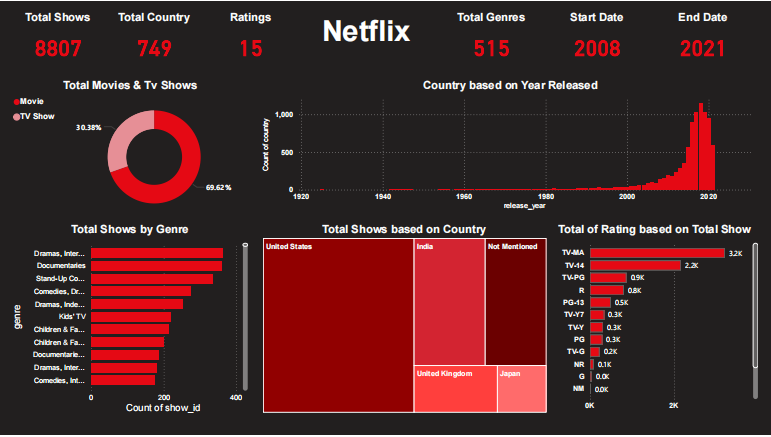

What the dashboard file says about the page in this screenshot:
{"tool":"powerbi","page":{"name":"Page 1","canvas":[1280,720],"ordinal":0},"visuals":[{"type":"donutChart","title":"Total Movies & Tv Shows","fields":{"Category":["netflix_titles.type"],"Y":["CountNonNull(netflix_titles.show_id)"]},"box":[16,128,400,240],"z":0},{"type":"clusteredBarChart","title":"Total Shows by Genre","fields":{"Category":["netflix_titles.genre"],"Y":["CountNonNull(netflix_titles.show_id)"]},"box":[16,368,400,320],"z":1000},{"type":"clusteredBarChart","title":"Total of Rating based on Total Show","fields":{"Y":["CountNonNull(netflix_titles.show_id)"],"Category":["netflix_titles.rating"]},"box":[912,368,352,320],"z":2000},{"type":"clusteredColumnChart","title":"Country based on Year Released","fields":{"Y":["CountNonNull(netflix_titles.country)"],"Category":["netflix_titles.release_year"]},"box":[432,128,832,224],"z":3000},{"type":"card","title":"Ratings","fields":{"Values":["Count(netflix_titles.rating)"]},"box":[336,16,160,96],"z":4000},{"type":"card","title":"Total Shows","fields":{"Values":["CountNonNull(netflix_titles.show_id)"]},"box":[16,16,160,96],"z":5000},{"type":"card","title":"Total Country","fields":{"Values":["Count(netflix_titles.country)"]},"box":[176,16,160,96],"z":6000},{"type":"card","title":"Total Genres","fields":{"Values":["Count(netflix_titles.genre)"]},"box":[736,16,160,96],"z":7000},{"type":"card","title":"Start Date","fields":{"Values":["Min(netflix_titles.date_added.Variation.Date Hierarchy.Year)"]},"box":[912,16,160,96],"z":8000},{"type":"card","title":"End Date","fields":{"Values":["Max(netflix_titles.date_added.Variation.Date Hierarchy.Year)"]},"box":[1088,16,160,96],"z":9000},{"type":"treemap","title":"Total Shows based on Country","fields":{"Group":["netflix_titles.country"],"Values":["CountNonNull(netflix_titles.show_id)"]},"box":[432,368,480,320],"z":10000},{"type":"textbox","box":[496,16,224,80],"z":11000}]}

Visuals, with their boxes in screenshot pixels (x1, y1, x2, y2), scaled from the page's 1280x720 canvas onto the 771x437 screenshot:
"Total Movies & Tv Shows" donutChart: bbox=(10, 78, 251, 223)
"Total Shows by Genre" clusteredBarChart: bbox=(10, 223, 251, 418)
"Total of Rating based on Total Show" clusteredBarChart: bbox=(549, 223, 761, 418)
"Country based on Year Released" clusteredColumnChart: bbox=(260, 78, 761, 214)
"Ratings" card: bbox=(202, 10, 299, 68)
"Total Shows" card: bbox=(10, 10, 106, 68)
"Total Country" card: bbox=(106, 10, 202, 68)
"Total Genres" card: bbox=(443, 10, 540, 68)
"Start Date" card: bbox=(549, 10, 646, 68)
"End Date" card: bbox=(655, 10, 752, 68)
"Total Shows based on Country" treemap: bbox=(260, 223, 549, 418)
textbox: bbox=(299, 10, 434, 58)
